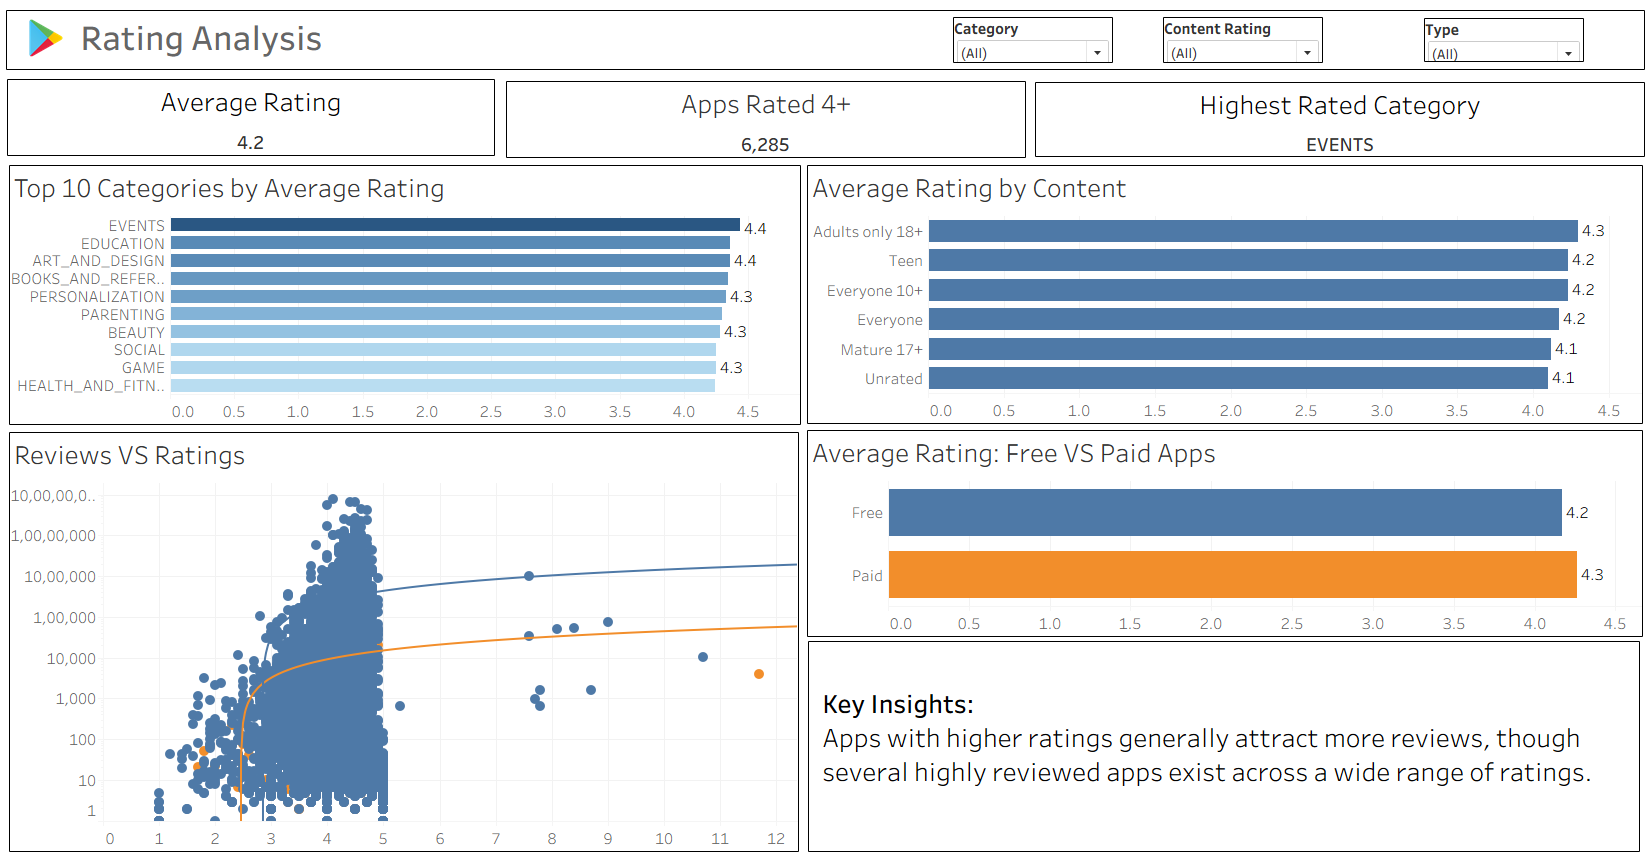

This screenshot's page, from the dashboard's own definition file:
{"tool":"tableau","page":{"name":"Rating Analysis","canvas":[1000,1000],"units":"permille","ordinal":3},"visuals":[{"type":"text","box":[48.3,18.6,150.3,52.3]},{"type":"image","param":"C:/Users/DELL/Downloads/google-play-logo-png_seeklogo-318439-removebg-preview.pn","box":[16.9,22.1,35.6,47.6]},{"type":"filter","title":"KPI Average Rating","param":"[federated.0rvsowf13khu5d18i3vno1nwu3qx].[none:Category:nk]","box":[577,22.1,96.6,53.4]},{"type":"filter","title":"KPI Average Rating","param":"[federated.0rvsowf13khu5d18i3vno1nwu3qx].[none:Content Rating:nk]","box":[703.7,22.1,96.6,53.4]},{"type":"filter","title":"KPI Average Rating","param":"[federated.0rvsowf13khu5d18i3vno1nwu3qx].[none:Type:nk]","box":[861.2,23.2,96.6,51.1]},{"type":"worksheet","title":"KPI Average Rating","mark":"Automatic","box":[6,94.1,294.5,89.4]},{"type":"worksheet","title":"Apps Rated 4+","mark":"Text","box":[307.2,96.4,313.8,89.4]},{"type":"worksheet","title":"Highest Rated Category","mark":"Text","box":[626.4,97.6,368.1,87.1]},{"type":"worksheet","title":"Top Rated Category","mark":"Automatic","rows":["Category"],"cols":["Calculation_0998958023049219"],"box":[7.2,194,478,302]},{"type":"worksheet","title":"Rating Distribution by CR","mark":"Bar","rows":["Content Rating"],"cols":["Calculation_0998958023049219"],"box":[488.8,194,504.5,300.8]},{"type":"worksheet","title":"Free VS Paid Rating","mark":"Automatic","rows":["Type"],"cols":["Calculation_0998958023049219"],"box":[488.8,501.7,504.5,240.4]},{"type":"worksheet","title":"Review VS Rating","mark":"Circle","rows":["Reviews"],"cols":["Rating"],"box":[7.2,504.1,476.8,487.8]},{"type":"text","box":[496.1,763.1,491.2,192.8]}]}

Visuals, with their boxes on the dashboard's canvas, which has no fixed pixel size, in thousandths of its width and height (x1, y1, x2, y2). These are canvas units, not pixel positions in the 1649x859 screenshot, which may show the page scaled, cropped or inside an application window:
text: [left=48, top=19, right=199, bottom=71]
image: [left=17, top=22, right=52, bottom=70]
"KPI Average Rating" filter: [left=577, top=22, right=674, bottom=76]
"KPI Average Rating" filter: [left=704, top=22, right=800, bottom=76]
"KPI Average Rating" filter: [left=861, top=23, right=958, bottom=74]
"KPI Average Rating" worksheet: [left=6, top=94, right=300, bottom=184]
"Apps Rated 4+" worksheet (Text marks): [left=307, top=96, right=621, bottom=186]
"Highest Rated Category" worksheet (Text marks): [left=626, top=98, right=994, bottom=185]
"Top Rated Category" worksheet: [left=7, top=194, right=485, bottom=496]
"Rating Distribution by CR" worksheet (Bar marks): [left=489, top=194, right=993, bottom=495]
"Free VS Paid Rating" worksheet: [left=489, top=502, right=993, bottom=742]
"Review VS Rating" worksheet (Circle marks): [left=7, top=504, right=484, bottom=992]
text: [left=496, top=763, right=987, bottom=956]
